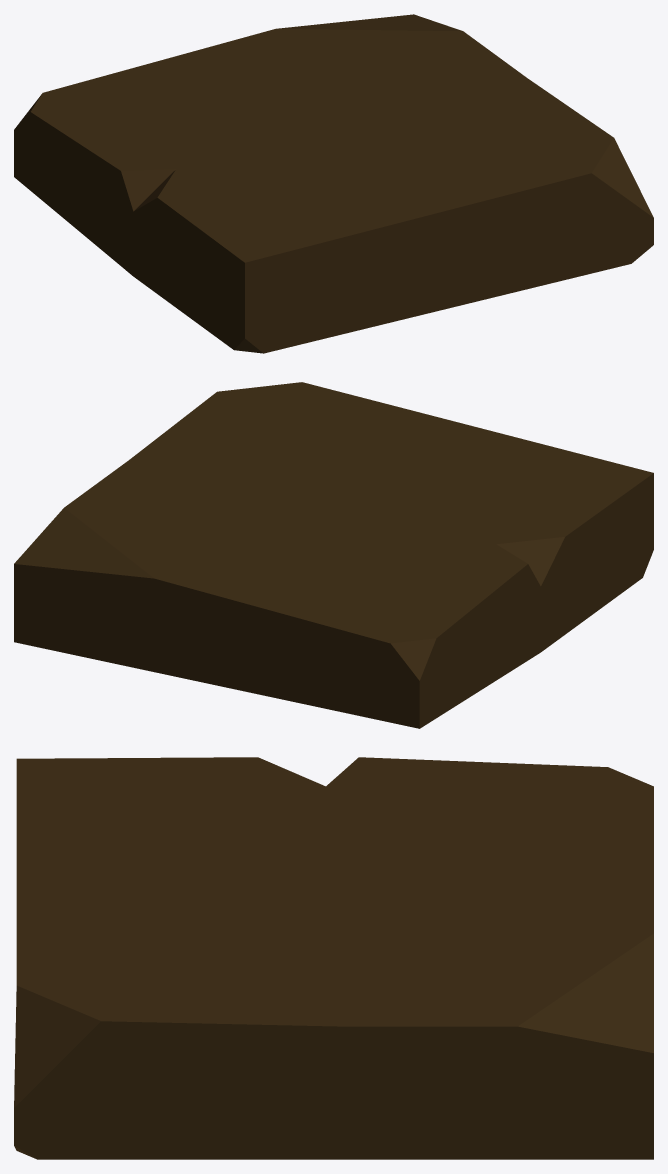
File: Platform1.fbx
3 renders of one model, top to bottom at view 1: azimuth 30°, elevation 25°; view 2: azimuth 150°, elevation 25°; view 3: azimuth 270°, elevation 25°, orthographic. The views are drawn at different scales.
Visible parts, largest first — view 1: 立方体.002; view 2: 立方体.002; view 3: 立方体.002.
Part boxes in pixels (left/top/right/bottom): 立方体.002: left=14, top=14, right=653, bottom=353; 立方体.002: left=14, top=382, right=653, bottom=728; 立方体.002: left=14, top=757, right=653, bottom=1159.
Bounding box in the file's own units: 2.04 × 0.4796 × 2.01.
